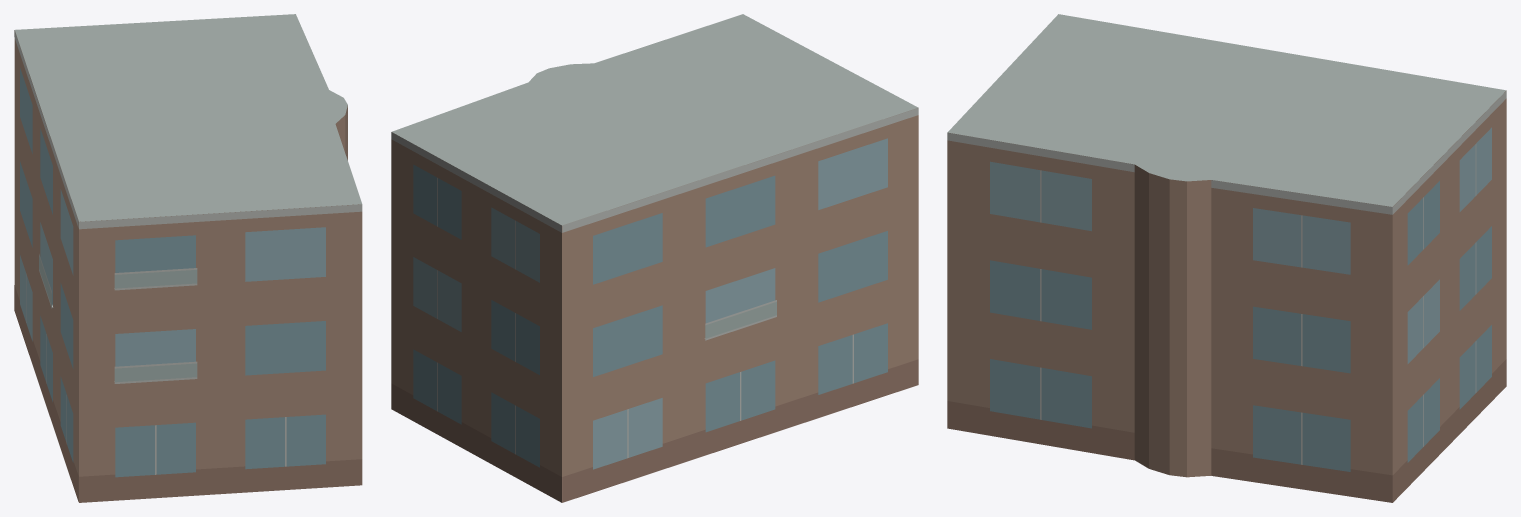
File: survey-upis-32744933.glb
3 views of the same model, side by side, from view 1: azimuth 30°, elevation 25°; view 2: azimuth 150°, elevation 25°; view 3: azimuth 270°, elevation 25° (orthographic). The views are drawn at different scales.
Visible parts, largest first — view 1: survey-upis-32744933.tmp; view 2: survey-upis-32744933.tmp; view 3: survey-upis-32744933.tmp.
Part boxes in pixels (box(x1,y1,x2,y2)): survey-upis-32744933.tmp: box(14, 14, 362, 502); survey-upis-32744933.tmp: box(391, 14, 918, 502); survey-upis-32744933.tmp: box(947, 14, 1506, 502).
Size of the model in its own units: 12.81 by 9.15 by 15.68.
